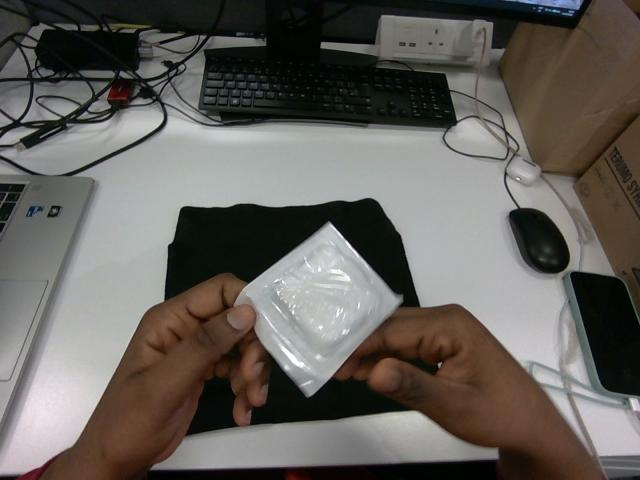gauze: (235, 223, 401, 396)
